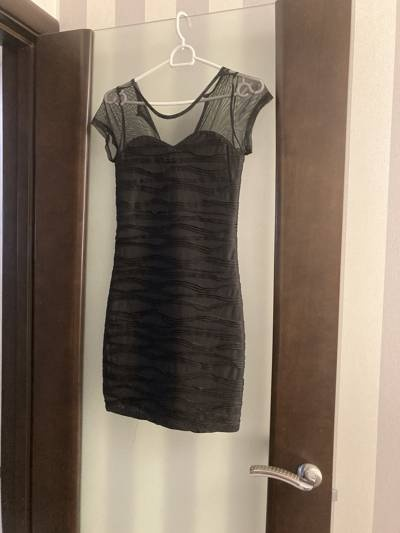Dress: (63, 65, 277, 447)
